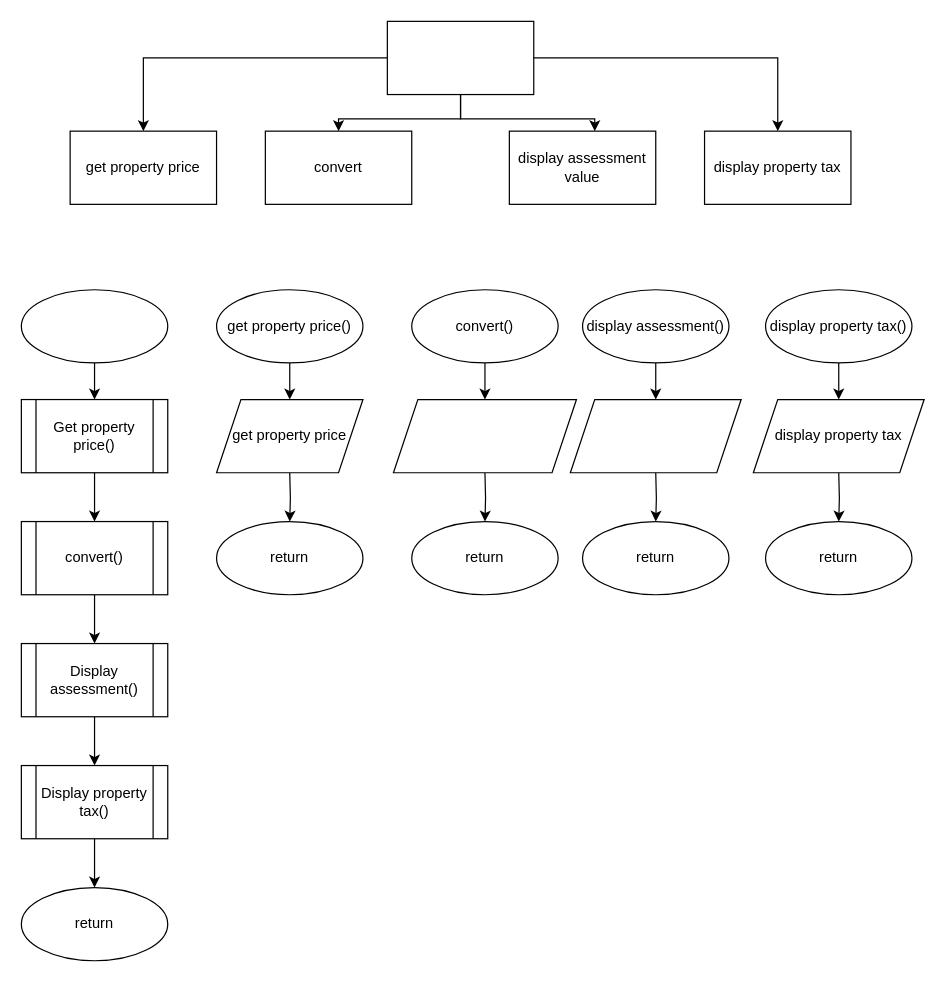
Some shapes in this 946 by 982 pixel diagram are drawn without their labels. Here are the shapes that lost their labels. From the top down, the centre of each, then its label:
At (460,57): "property tax".
At (94,326): "main()".
At (484,435): "convert to price to assessment and tax".
At (655,435): "display assessment".
